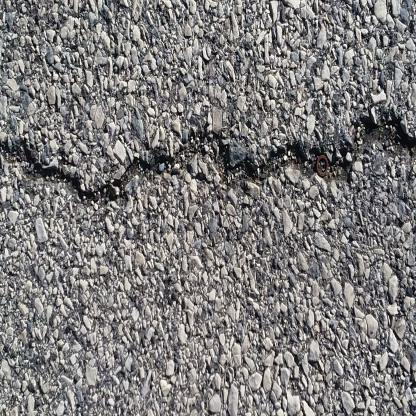Cracks: (0, 93, 416, 212)
